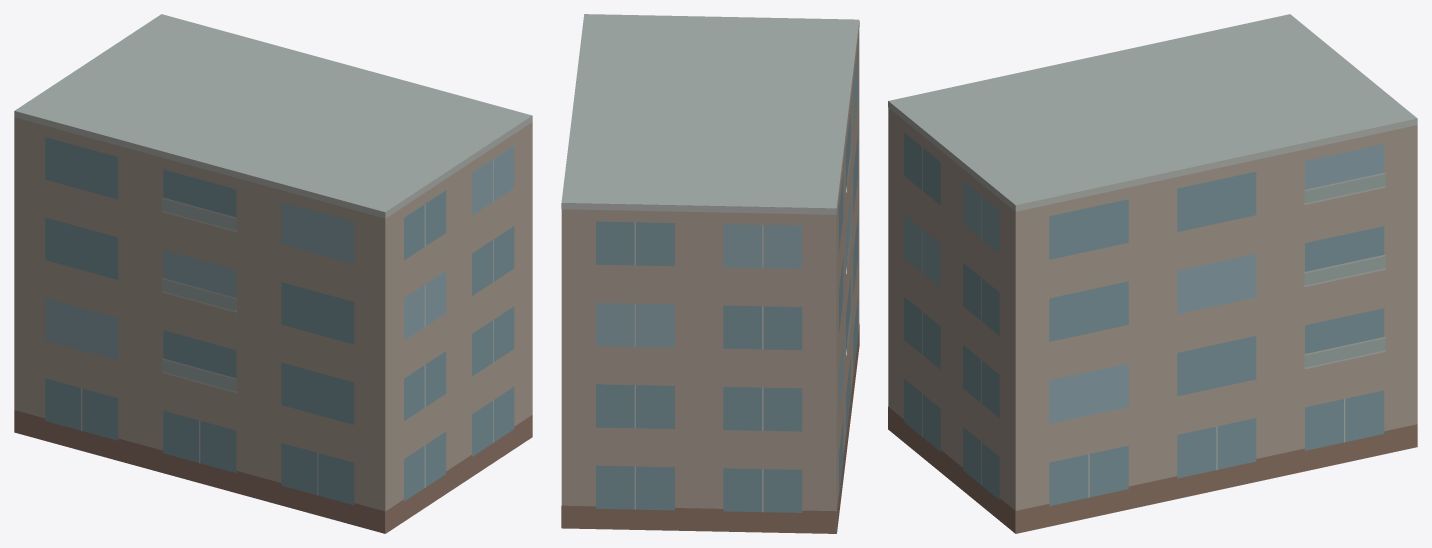
The model's file is survey-upis-32828642.glb.
3 views of the same model, side by side, from view 1: azimuth 30°, elevation 25°; view 2: azimuth 150°, elevation 25°; view 3: azimuth 270°, elevation 25° (orthographic). The views are drawn at different scales.
Visible parts, largest first — view 1: survey-upis-32828642.tmp; view 2: survey-upis-32828642.tmp; view 3: survey-upis-32828642.tmp.
Part boxes in pixels (left/top/right/bottom): survey-upis-32828642.tmp: left=14, top=14, right=532, bottom=533; survey-upis-32828642.tmp: left=561, top=14, right=859, bottom=533; survey-upis-32828642.tmp: left=888, top=14, right=1417, bottom=533.
Size of the model in its own units: 15.37 by 12.3 by 17.97.
